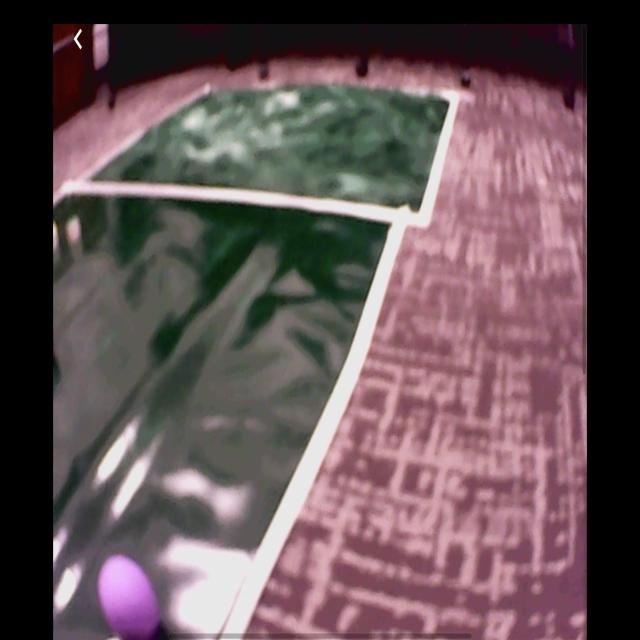ball: (99, 556, 162, 639)
